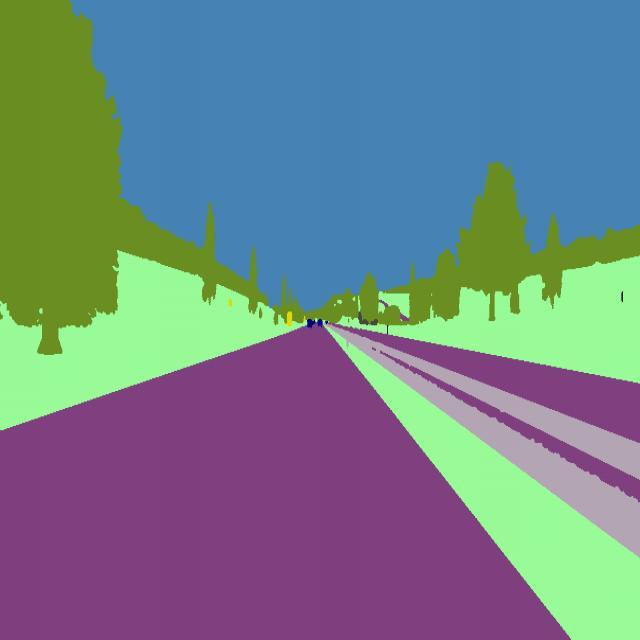safe: (305, 314, 314, 331), (316, 318, 326, 330)
